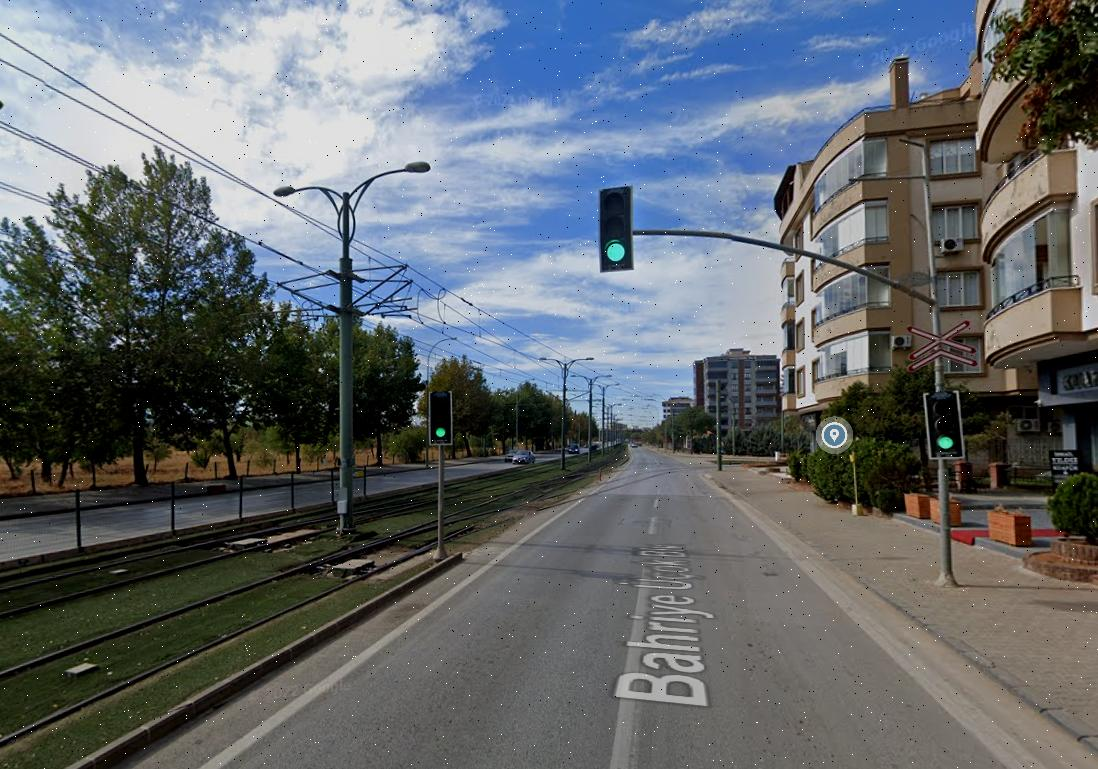greenlight: (601, 186, 632, 269), (928, 393, 960, 459), (431, 389, 455, 444)
